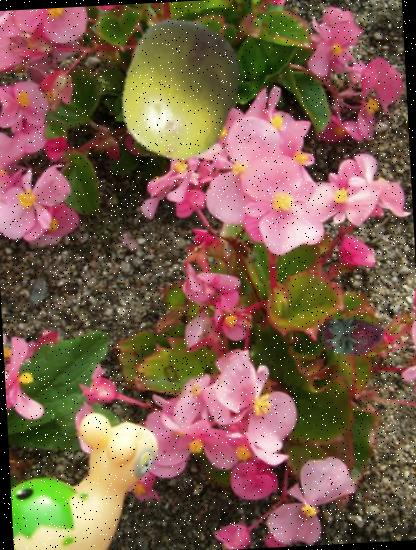Pomelo: (105, 15, 254, 164)
Strawberry: (320, 304, 387, 371)
